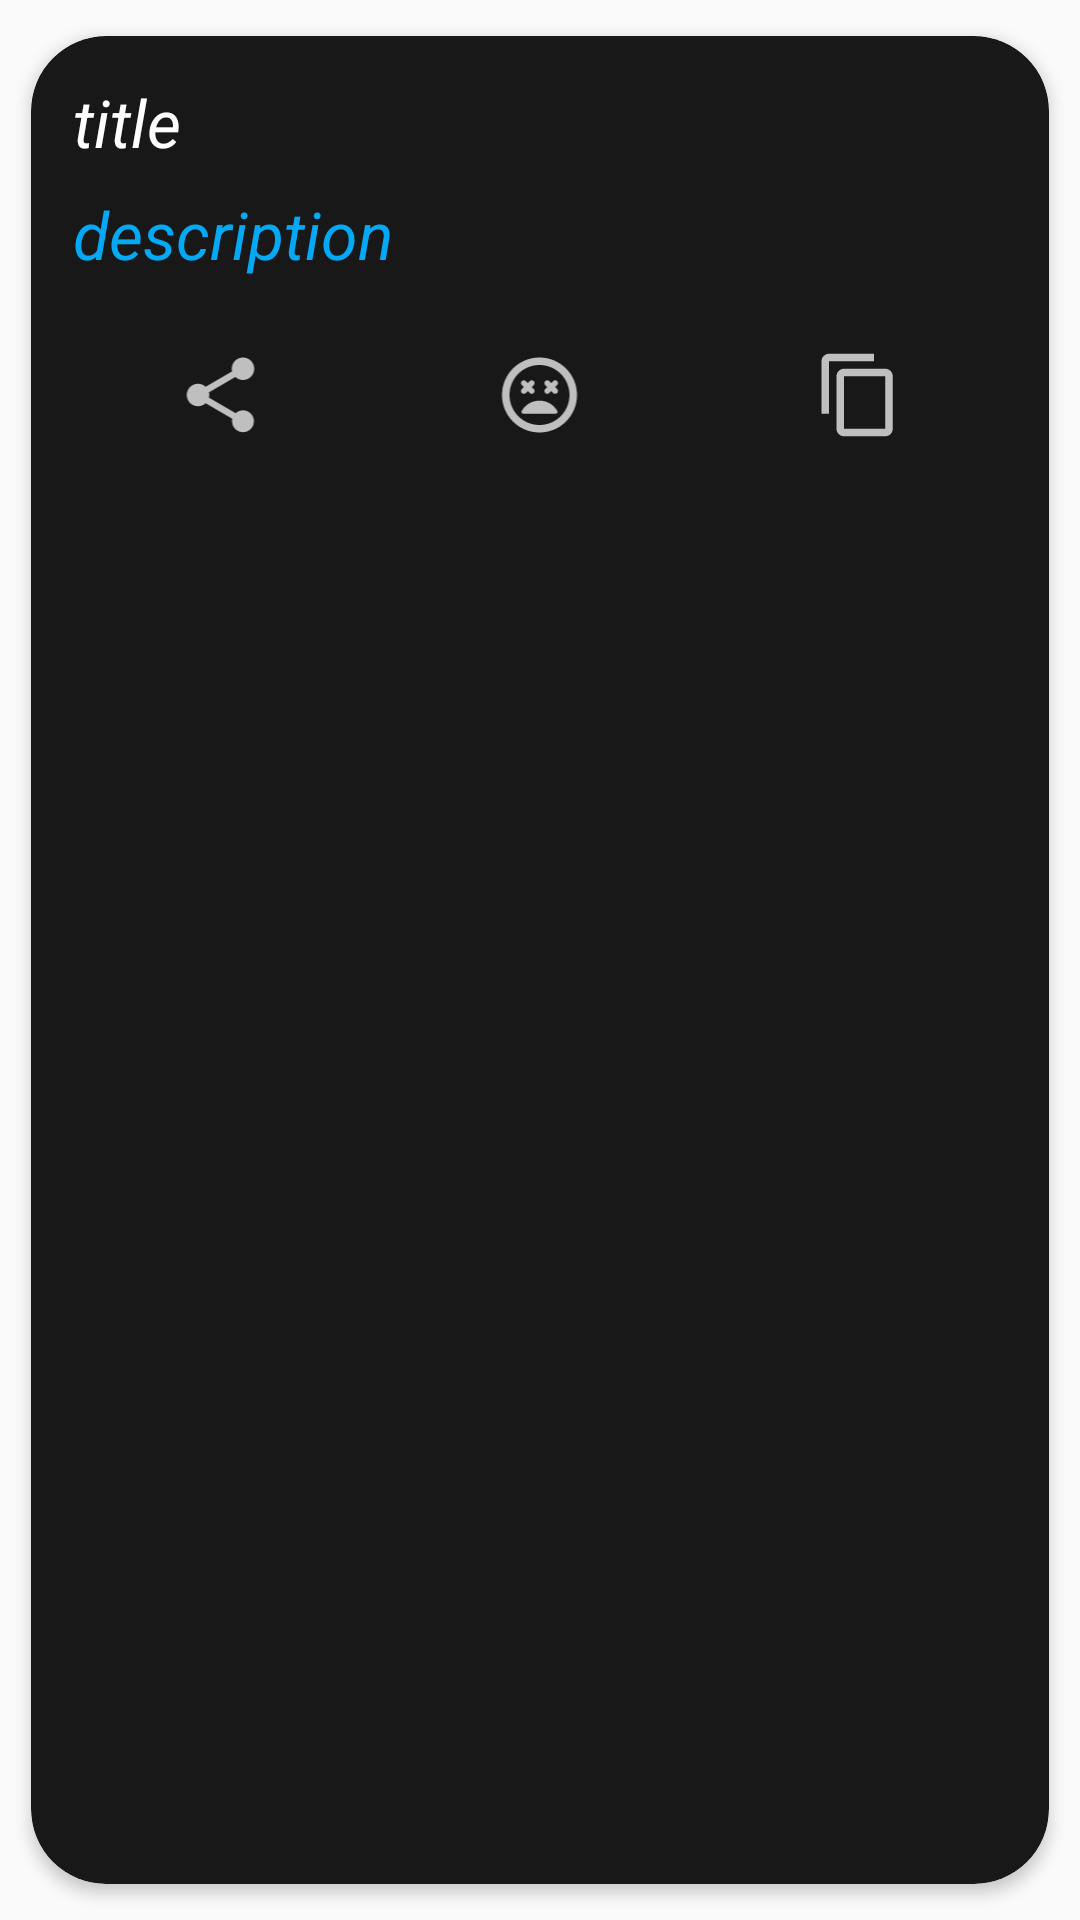

Named icons in this screenshot (1080×1920) and their centers, point (x, y):
sentiment very dissatisfied: point (539, 395)
share: point (220, 395)
